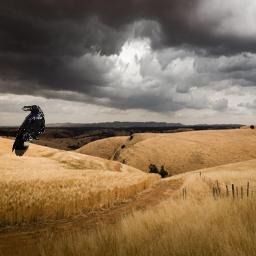Crow: (12, 105, 45, 157)
